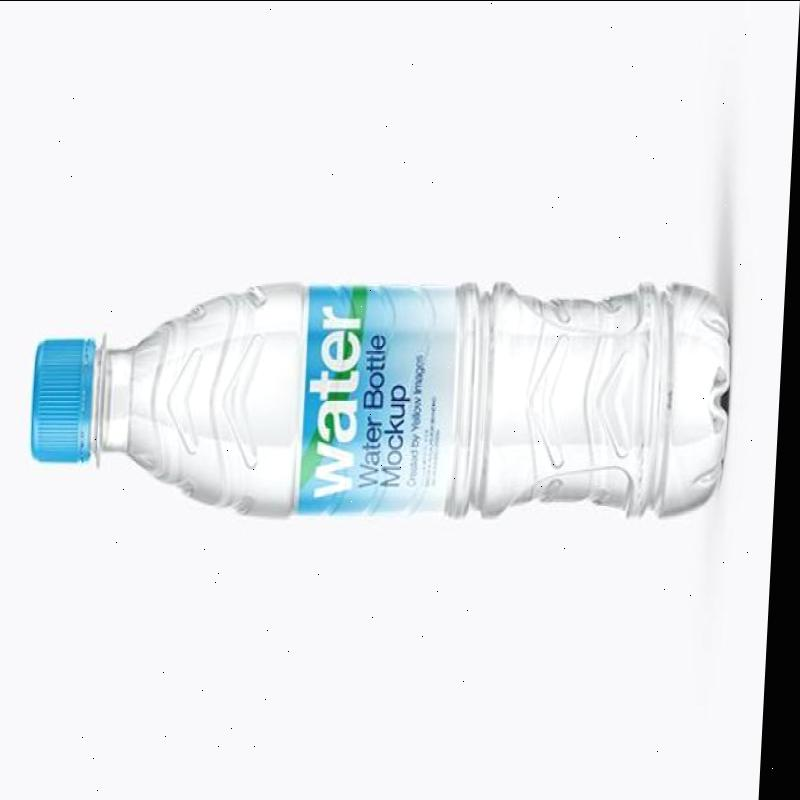botella: (29, 278, 735, 522)
